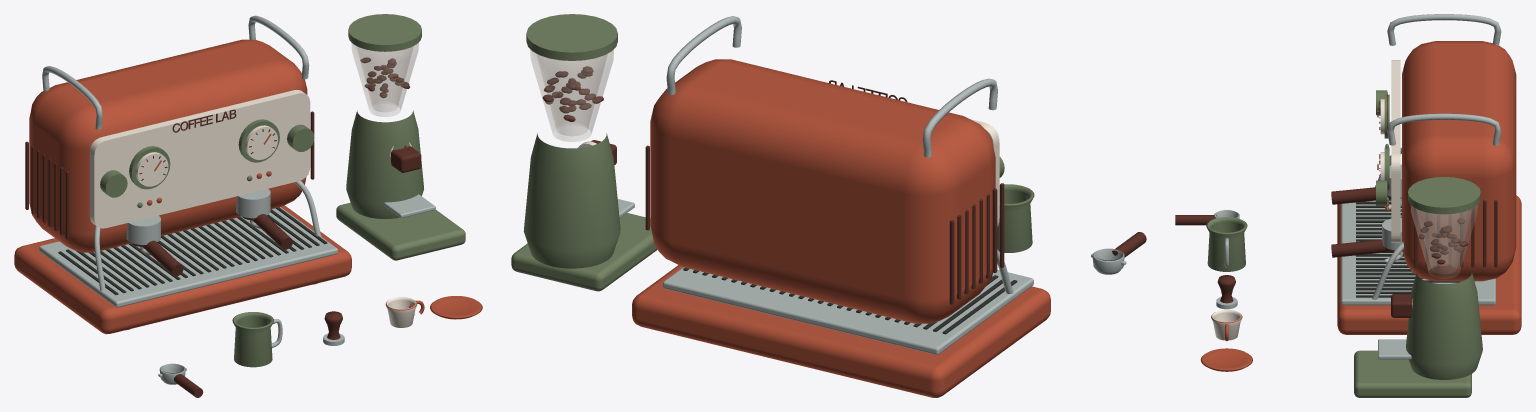
Rendered from heritage-equipment-kit.glb.
3 renders of one model, left to right at view 1: azimuth 30°, elevation 25°; view 2: azimuth 150°, elevation 25°; view 3: azimuth 270°, elevation 25°, orthographic. The views are drawn at different scales.
Visible parts, largest first — view 1: surface-#B5543A,0,0.7, surface-#F0E6D8,0,0.7, surface-#6F7F5F,0,0.7, surface-#AFB9B7,0.85,0.28, surface-#5A2E25,0,0.7, surface-#30332F,0,0.7, surface-hopper-glass, surface-#6F7F5F,0.35,0.38, surface-#AFB9B7,0.8,0.3, surface-#AFB9B7,0.8,0.26, surface-#AFB9B7,0.8,0.7, surface-#AFB9B7,0.9,0.24 (+1 smaller); view 2: surface-#B5543A,0,0.7, surface-#6F7F5F,0,0.7, surface-#AFB9B7,0.85,0.28, surface-#5A2E25,0,0.7, surface-hopper-glass, surface-#AFB9B7,0.8,0.26, surface-#6F7F5F,0.35,0.38, surface-#30332F,0,0.7, surface-#AFB9B7,0.9,0.25, surface-#F0E6D8,0,0.7; view 3: surface-#B5543A,0,0.7, surface-#6F7F5F,0,0.7, surface-#5A2E25,0,0.7, surface-#AFB9B7,0.85,0.28, surface-hopper-glass, surface-#30332F,0,0.7, surface-#F0E6D8,0,0.7, surface-#AFB9B7,0.8,0.26, surface-#6F7F5F,0.35,0.38, surface-#AFB9B7,0.8,0.7, surface-#AFB9B7,0.8,0.3, surface-#AFB9B7,0.9,0.24 (+1 smaller).
Part boxes in pixels (box(x1,y1,x2,y2)): surface-#B5543A,0,0.7: box(14, 39, 482, 334); surface-#F0E6D8,0,0.7: box(89, 90, 417, 327); surface-#6F7F5F,0,0.7: box(100, 14, 465, 260); surface-#AFB9B7,0.85,0.28: box(39, 207, 337, 307); surface-#5A2E25,0,0.7: box(25, 57, 421, 397); surface-#30332F,0,0.7: box(58, 207, 327, 330); surface-hopper-glass: box(351, 43, 418, 116); surface-#6F7F5F,0.35,0.38: box(232, 312, 273, 367); surface-#AFB9B7,0.8,0.3: box(126, 189, 270, 244); surface-#AFB9B7,0.8,0.26: box(42, 15, 309, 129); surface-#AFB9B7,0.8,0.7: box(158, 194, 435, 376); surface-#AFB9B7,0.9,0.24: box(94, 180, 321, 290); surface-#B5543A,0,0.7: box(632, 59, 1050, 397); surface-#6F7F5F,0,0.7: box(511, 14, 1004, 291); surface-#AFB9B7,0.85,0.28: box(663, 267, 1033, 354); surface-#5A2E25,0,0.7: box(542, 66, 1146, 304); surface-hopper-glass: box(530, 49, 613, 141); surface-#AFB9B7,0.8,0.26: box(666, 16, 997, 157); surface-#6F7F5F,0.35,0.38: box(997, 184, 1034, 252); surface-#30332F,0,0.7: box(683, 267, 1017, 334); surface-#AFB9B7,0.9,0.25: box(1092, 248, 1124, 274); surface-#F0E6D8,0,0.7: box(577, 119, 999, 227); surface-#B5543A,0,0.7: box(1200, 41, 1521, 371); surface-#6F7F5F,0,0.7: box(1354, 90, 1482, 397); surface-#5A2E25,0,0.7: box(1175, 92, 1497, 317); surface-#AFB9B7,0.85,0.28: box(1341, 200, 1495, 305); surface-hopper-glass: box(1411, 205, 1477, 278); surface-#30332F,0,0.7: box(1356, 199, 1461, 297); surface-#F0E6D8,0,0.7: box(1211, 60, 1412, 340); surface-#AFB9B7,0.8,0.26: box(1387, 14, 1501, 145); surface-#6F7F5F,0.35,0.38: box(1206, 217, 1247, 271); surface-#AFB9B7,0.8,0.7: box(1224, 238, 1411, 359); surface-#AFB9B7,0.8,0.3: box(1382, 164, 1401, 250); surface-#AFB9B7,0.9,0.24: box(1372, 147, 1403, 299).
Bounding box in the file's own units: 1.16 × 0.6512 × 0.94.
